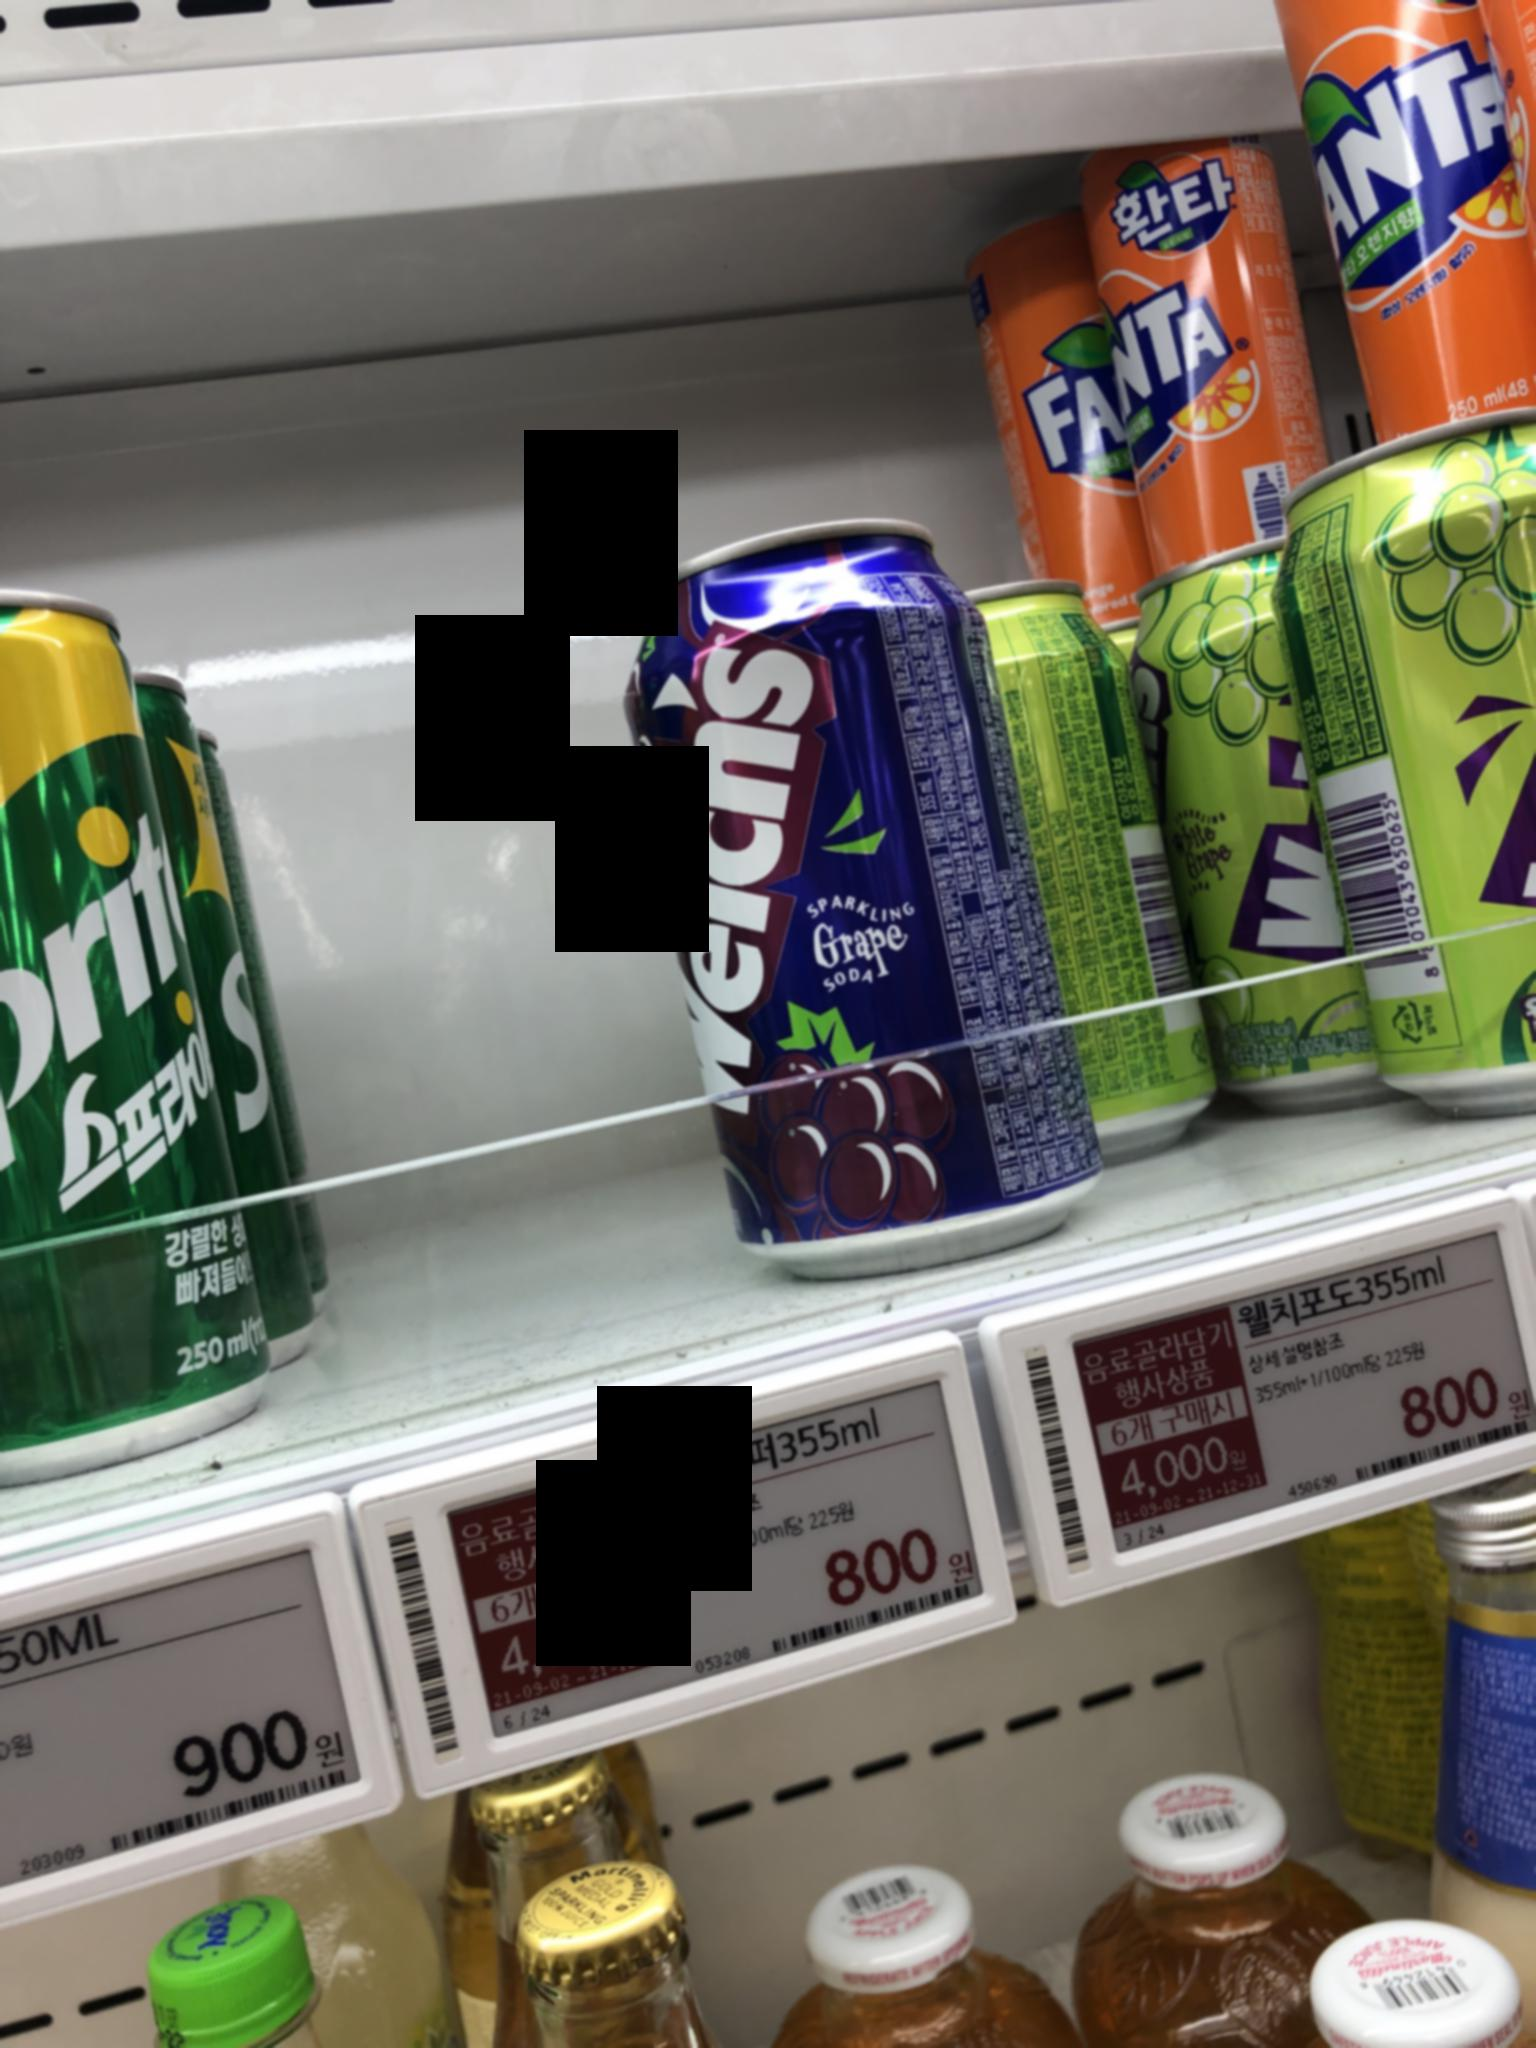welchs_grape: (576, 527, 1133, 1276)
